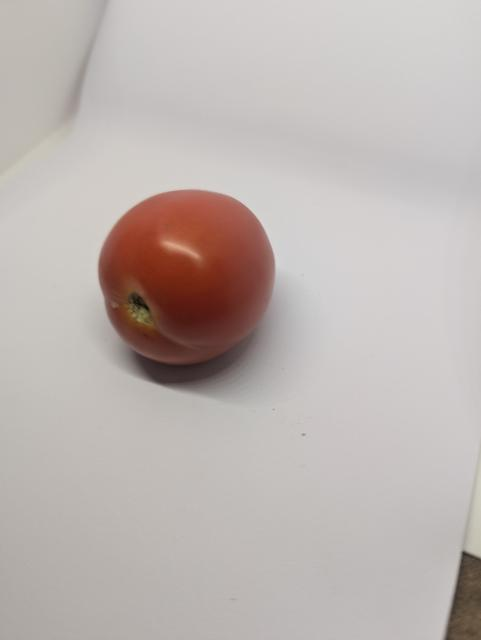red: (80, 171, 305, 389)
